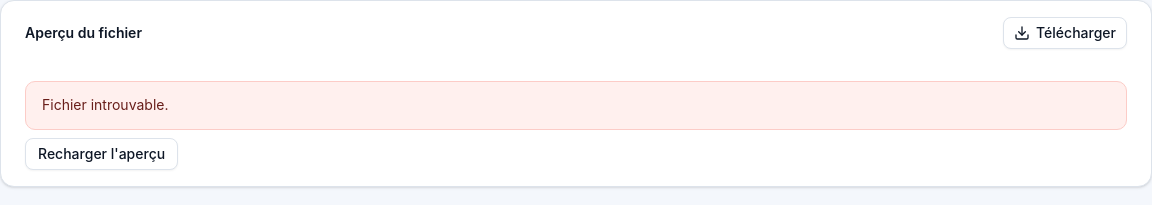
Scenario: FilePreview › affiche le refus du serveur et permet de recharger l'aperçu
Expected: the message reads "Fichier introuvable.", [42,96,168,113]
Click the button "Recharger l'aperçu".
click(102, 154)  # box [25,138,178,170]
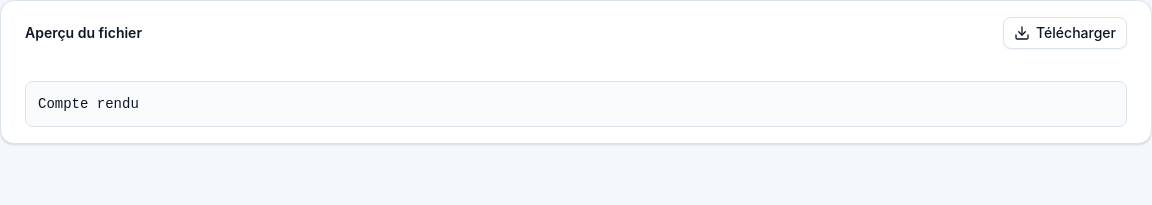
Result: the text "Compte rendu" is shown at [25,81,1127,127]
